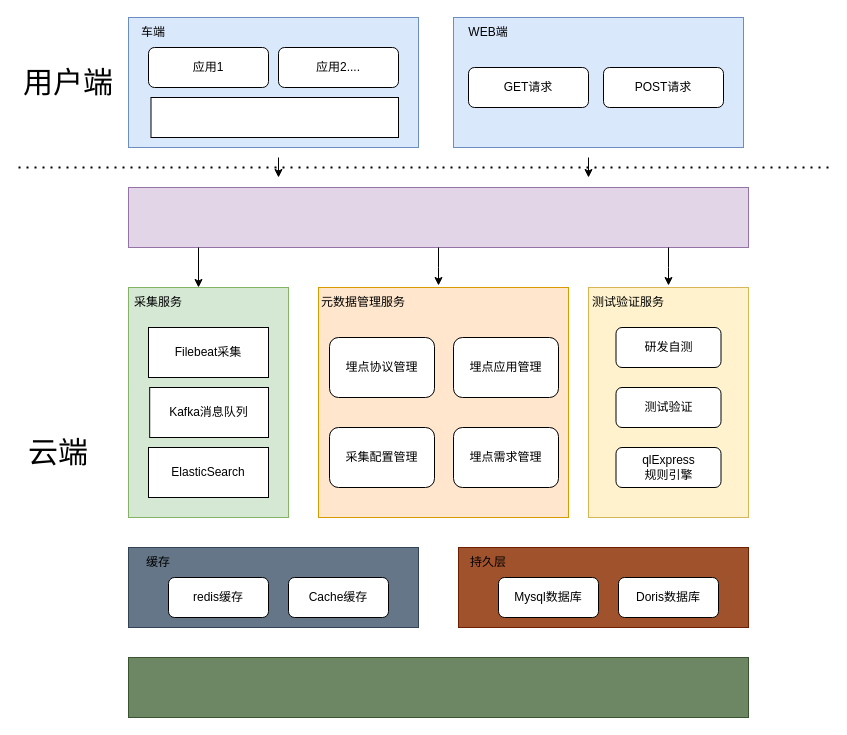
This 847x735 diagram has some shape labels left out. Each missing label, with the centre of its shape:
"API网关（Ngnix）" goes at (438,217).
"数据中心SDK" goes at (274,117).
"星河云平台" goes at (438,687).
